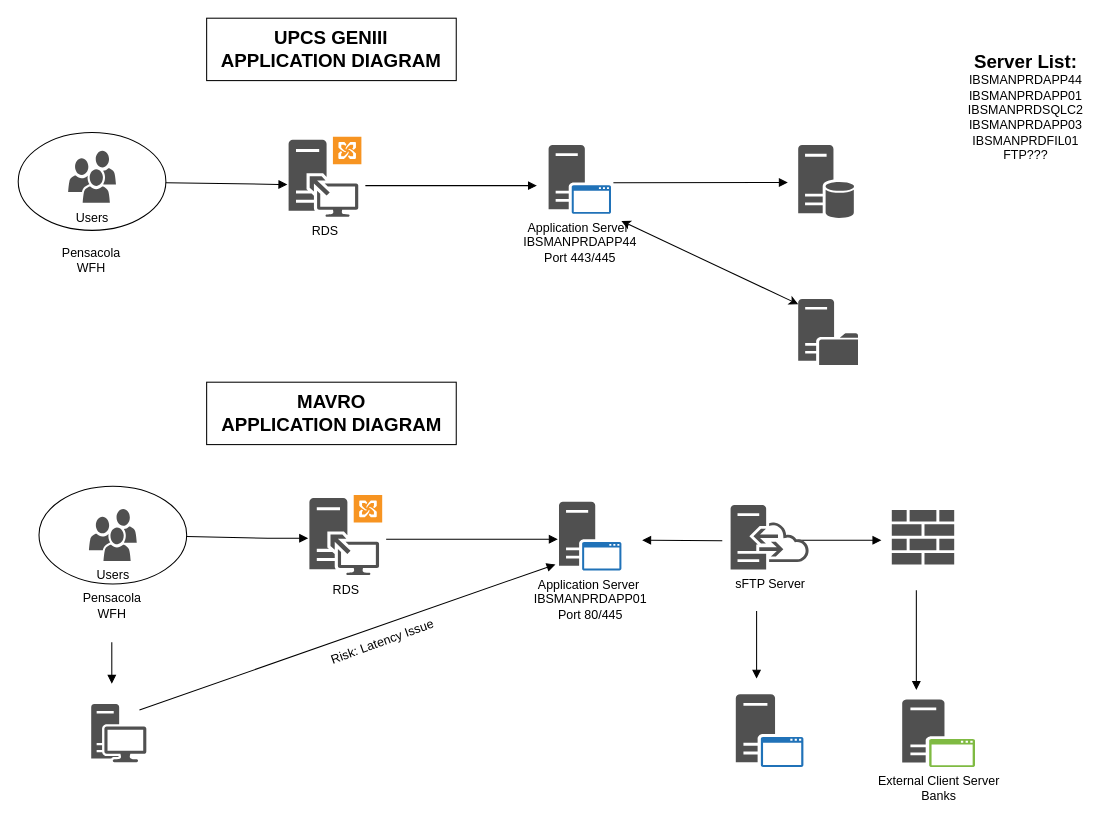
The diagram is 1111 pixels wide and 837 high, and some of its shapes have lost their labels. Here are the shapes that lost their labels. From the top down, the box of each, then its label:
(798, 145, 854, 217): Database Server IBSMANPRDSQLC2 Port 1433
(798, 298, 857, 365): File Server IBSMANPRDFIL01
(891, 509, 954, 564): Firewall
(91, 704, 146, 762): Opex Scanning Workstation Pensacola
(735, 694, 803, 766): Application Server IBSMANPRDAPP03 Port 445
